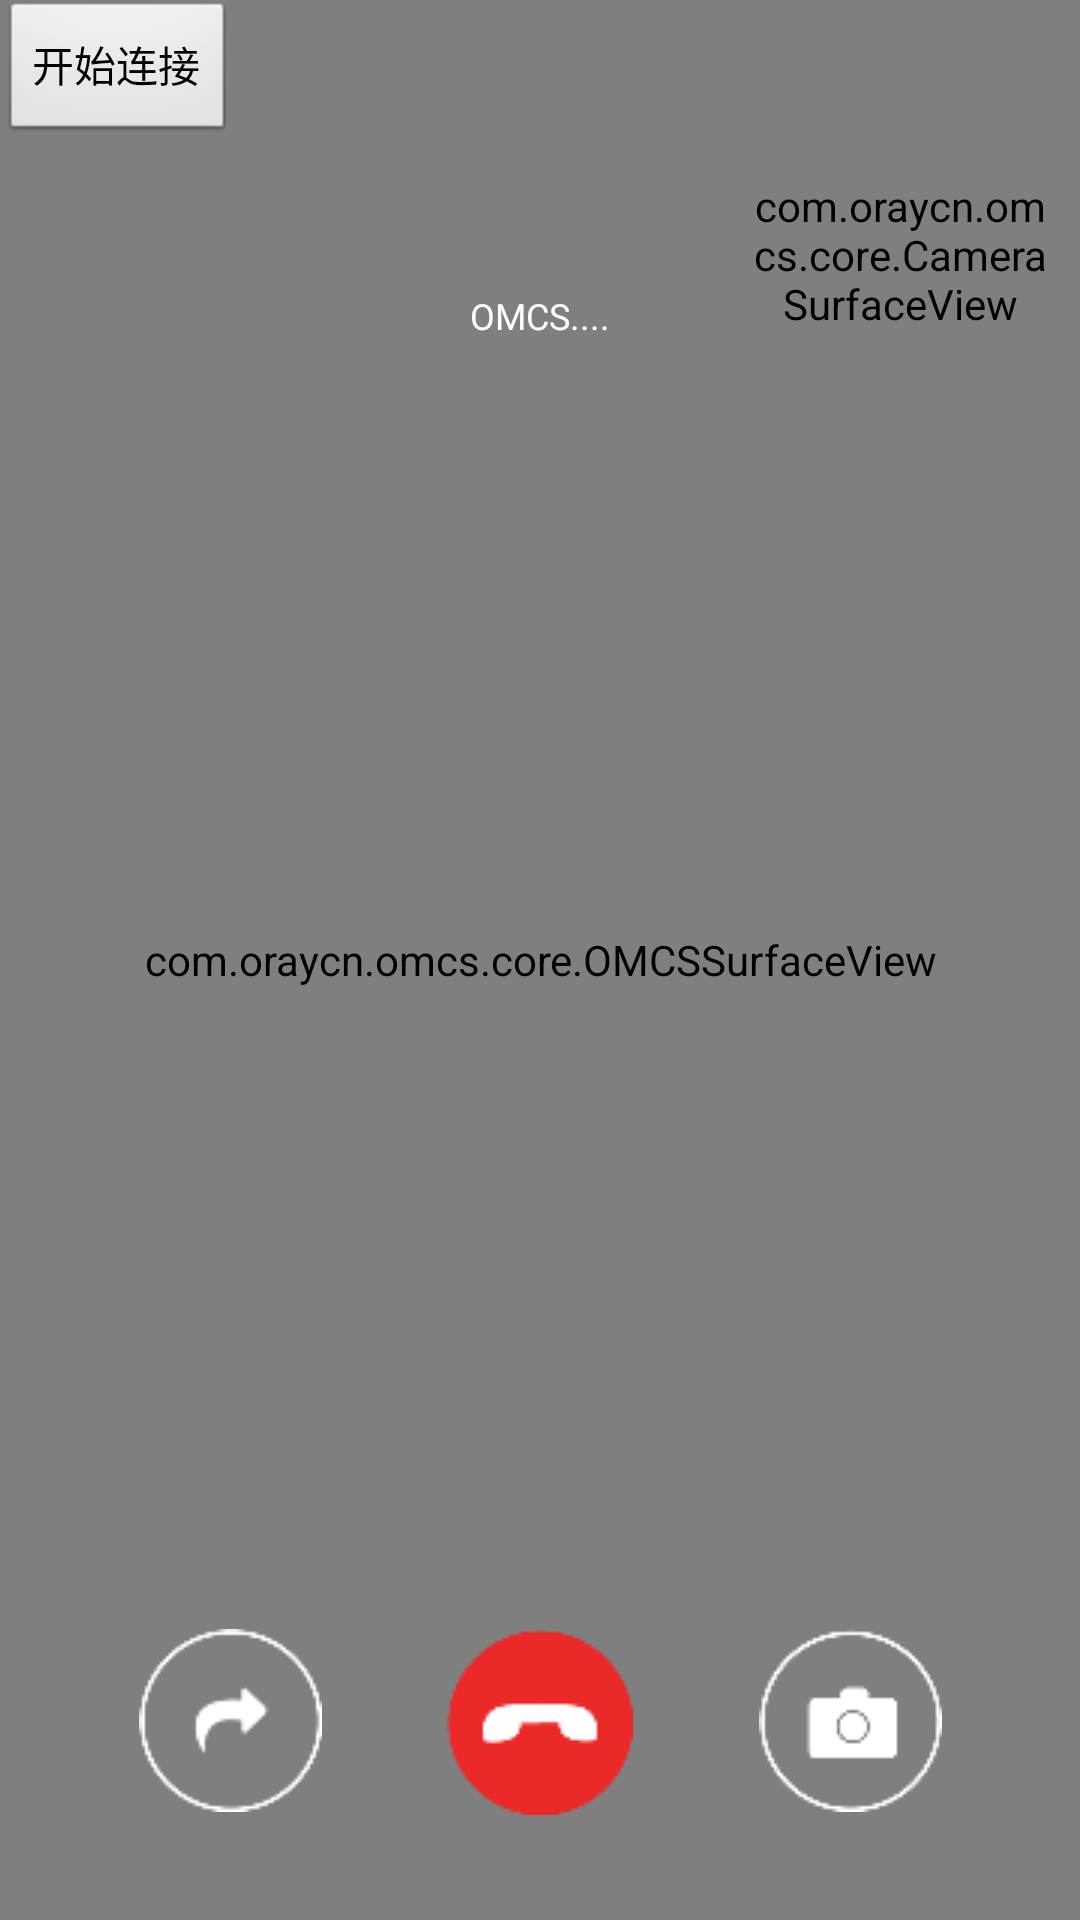

Where to tap for icons on this 1080×1920 app screen, as (x,y):
handsup: (540,1722)
switchcamera: (850,1721)
switchvoice: (230,1720)
